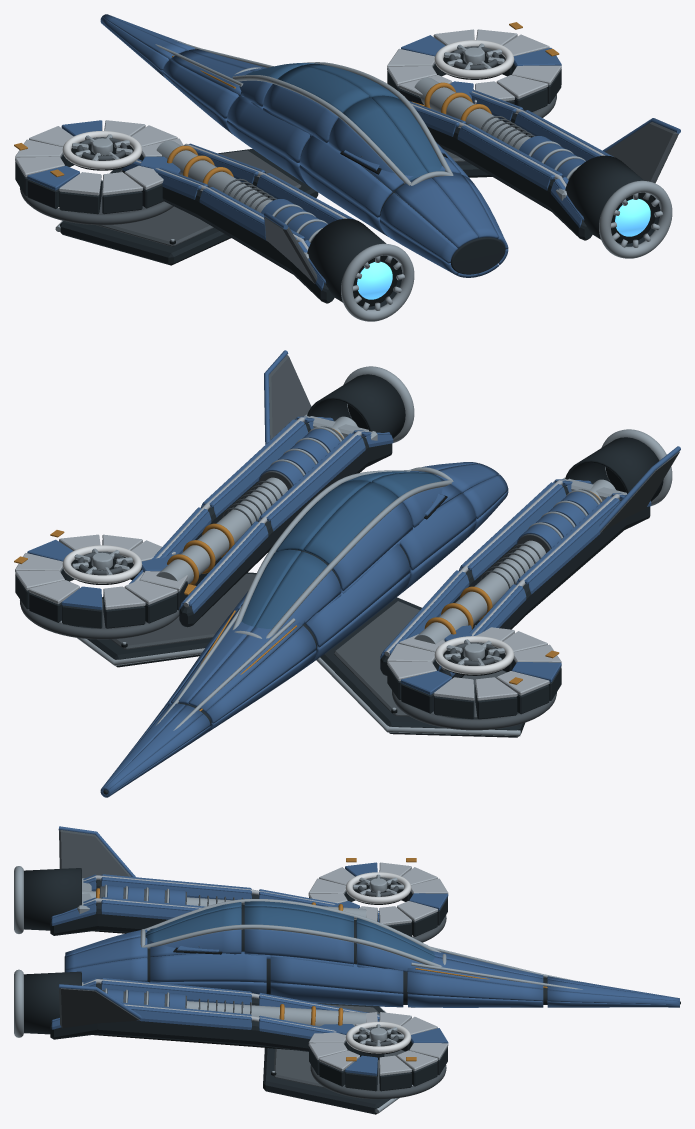
Rendered from liberator.glb.
3 views of the same model, one above another, from view 1: azimuth 30°, elevation 25°; view 2: azimuth 150°, elevation 25°; view 3: azimuth 270°, elevation 25° (orthographic). The views are drawn at different scales.
Visible parts, largest first — view 1: liberator.001; view 2: liberator.001; view 3: liberator.001.
Part boxes in pixels (box(x1,y1,x2,y2)): liberator.001: box(14, 14, 680, 321); liberator.001: box(14, 350, 680, 797); liberator.001: box(14, 826, 680, 1114).
Bounding box in the file's own units: 4.14 × 1.08 × 5.54.
